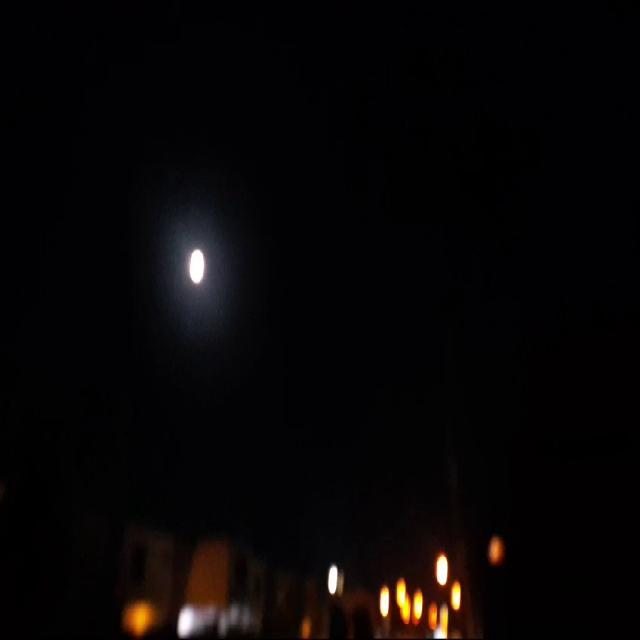moon: (186, 245, 206, 283)
